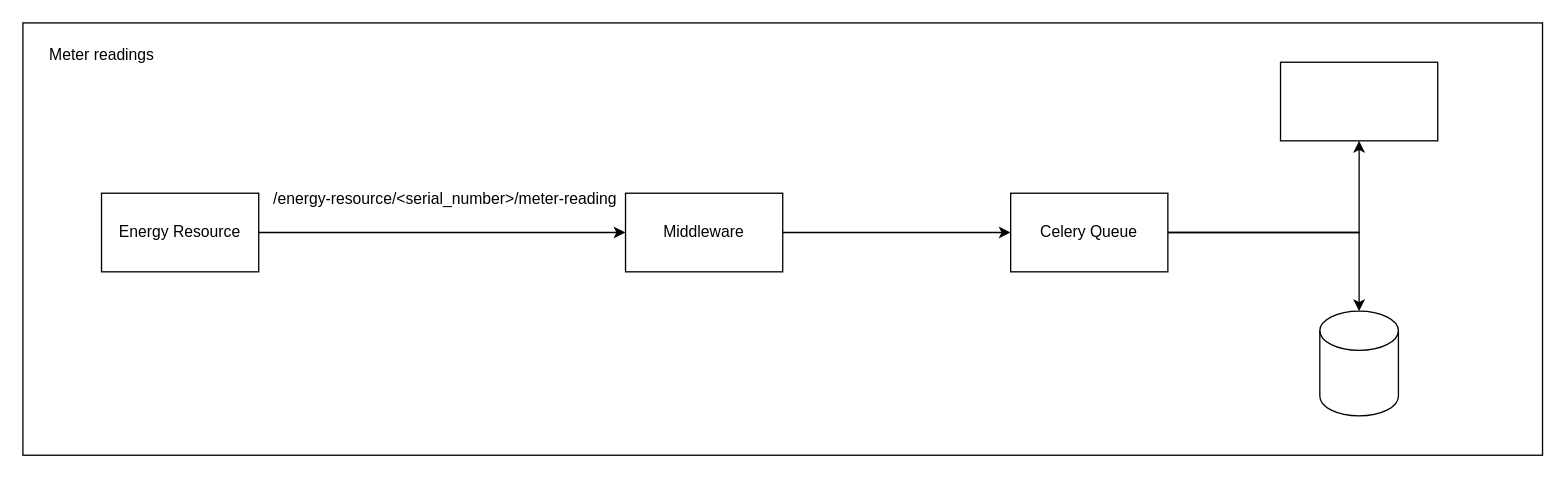
This 1565x478 diagram has some shape labels left out. Each missing label, with the centre of its shape:
"Network operator" goes at (1358,101).
"Postgres" goes at (1358,363).
